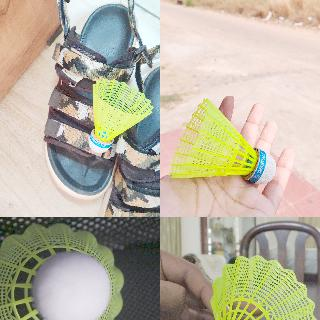shuttlecock: (0, 223, 124, 319), (170, 98, 276, 184), (210, 255, 318, 319), (88, 78, 154, 152)
